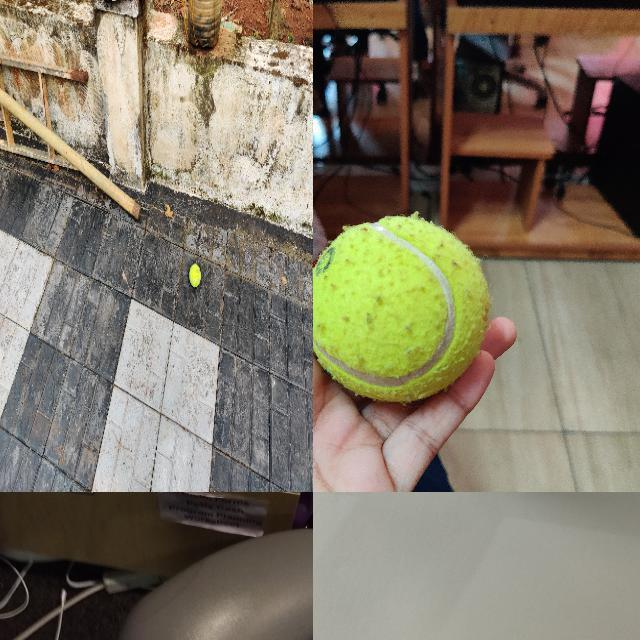tennis-ball: (313, 215, 491, 402), (189, 263, 201, 287)
